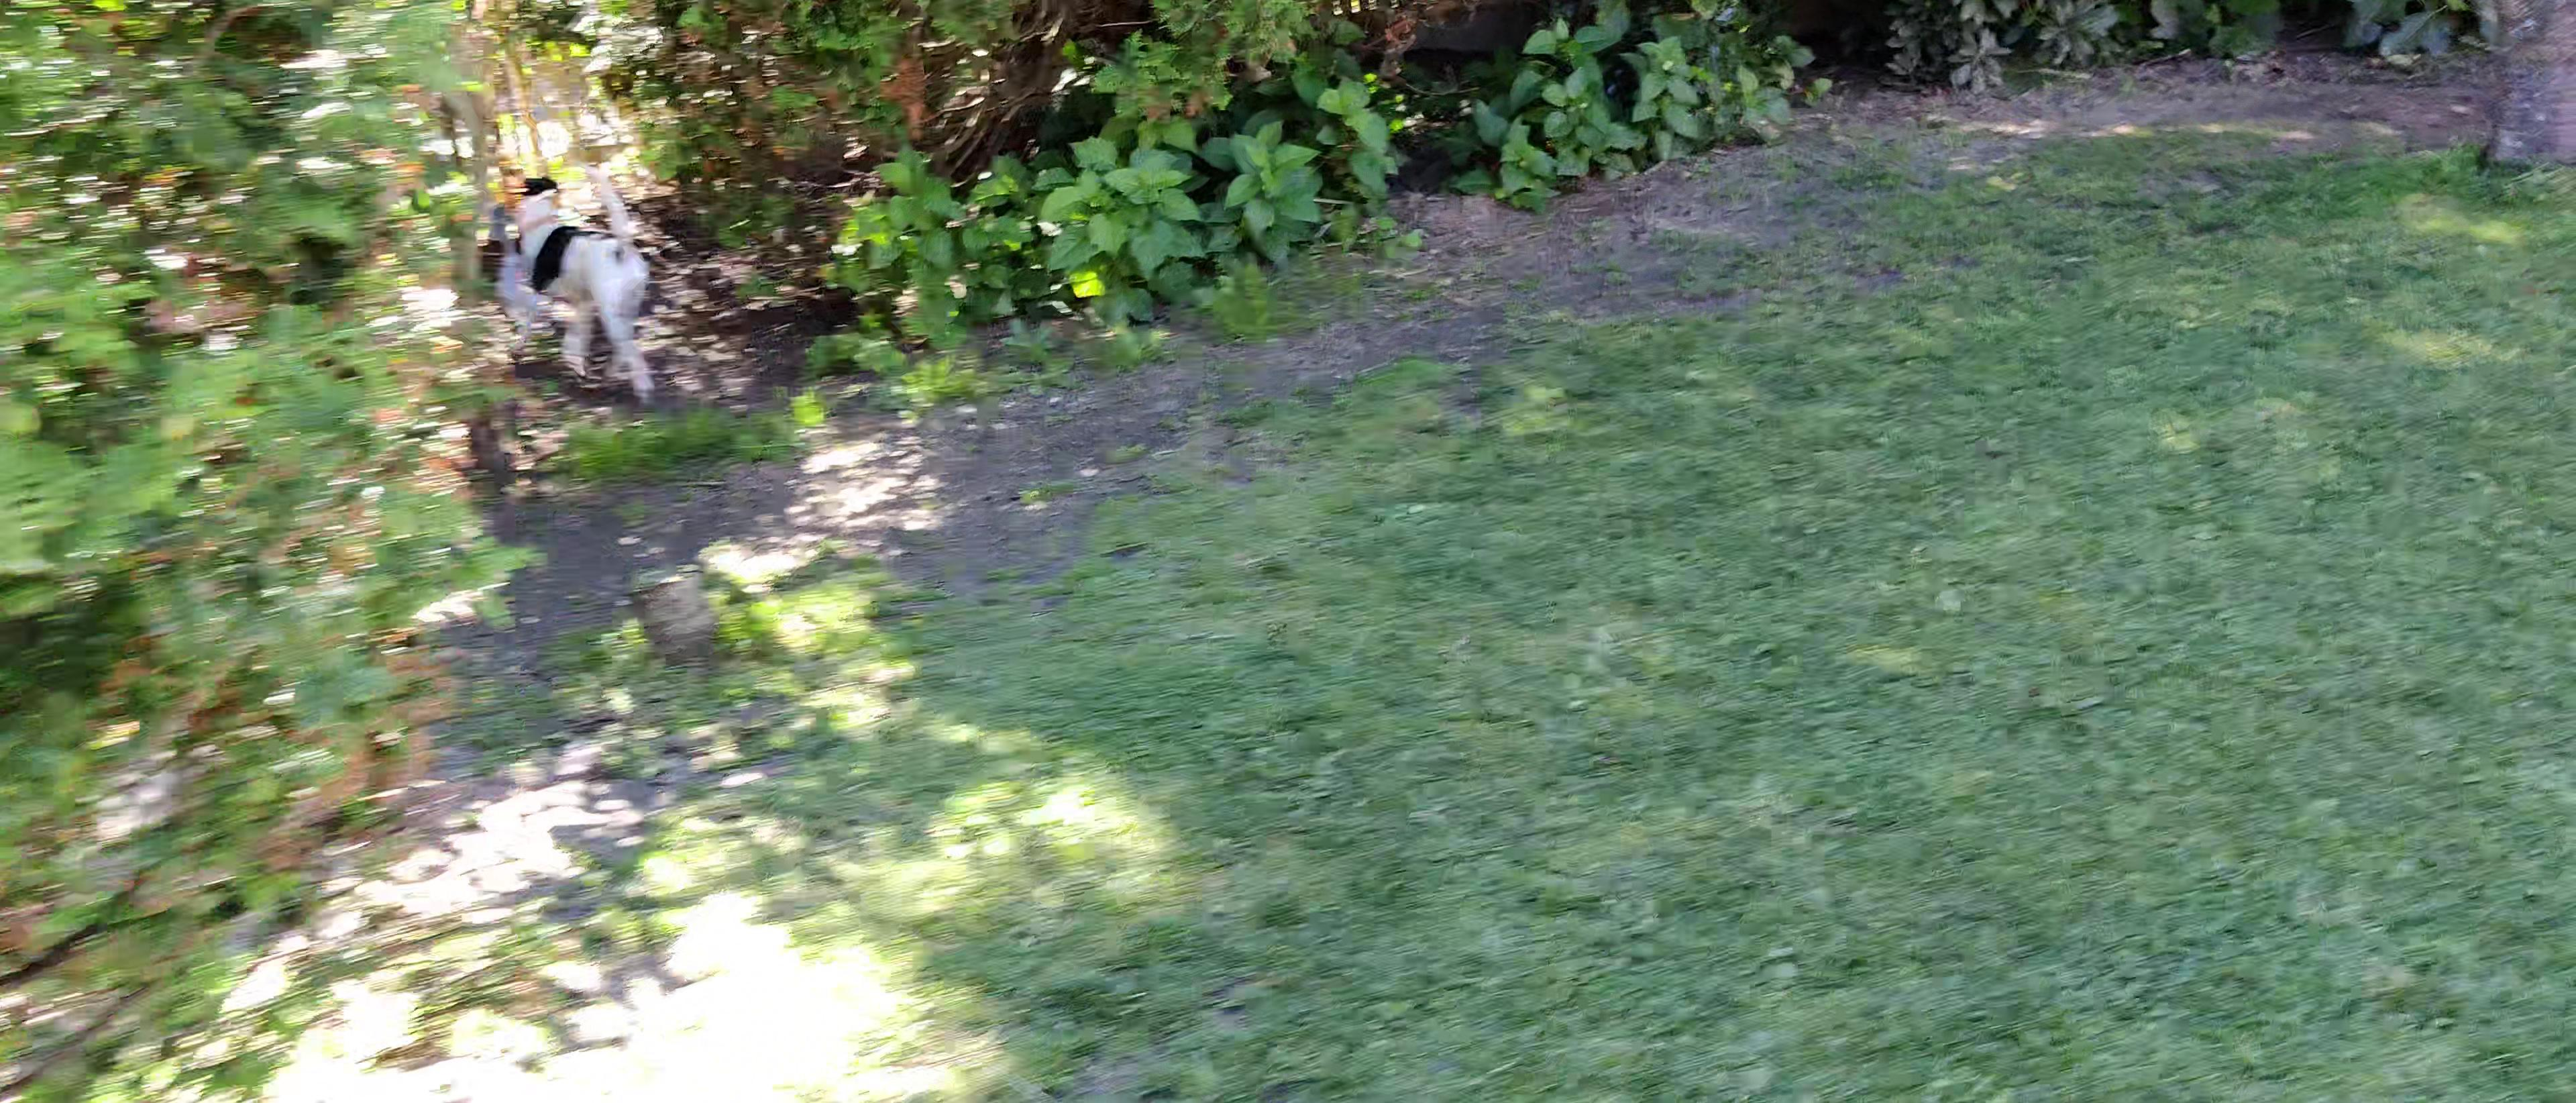Dog: (480, 146, 667, 406)
